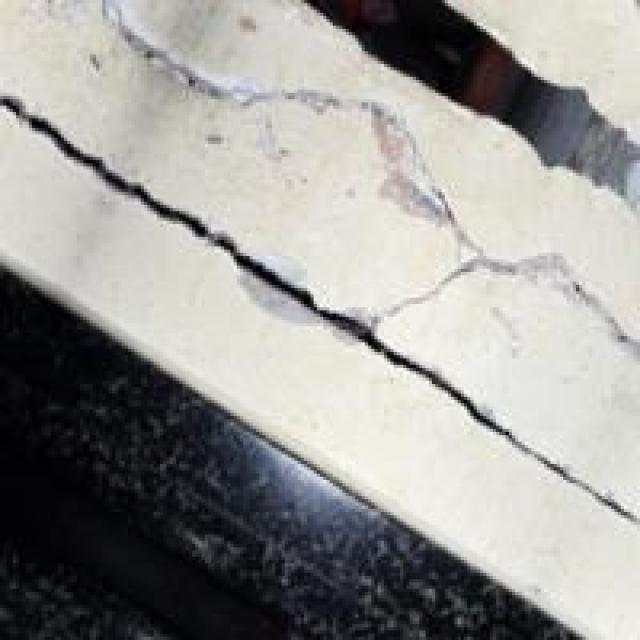crack: (0, 22, 637, 637)
